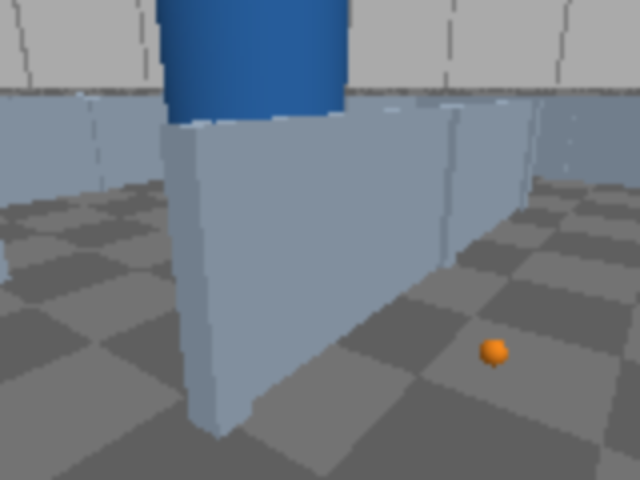puck: (474, 331, 512, 375)
